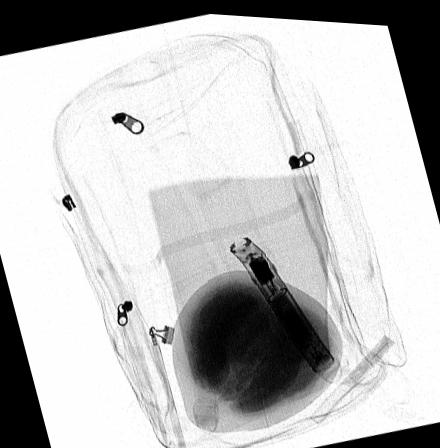Baton: (230, 231, 337, 369)
